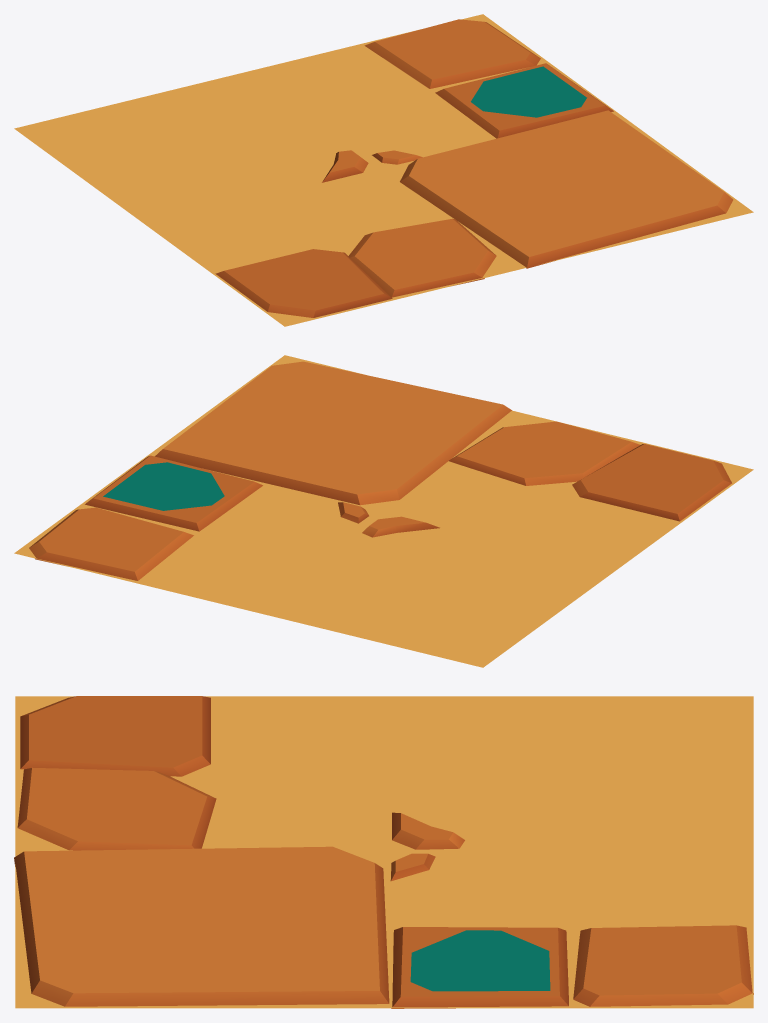
3 views of the same model, one above another, from view 1: azimuth 30°, elevation 25°; view 2: azimuth 150°, elevation 25°; view 3: azimuth 270°, elevation 25° (orthographic). The views are drawn at different scales.
Visible parts, largest first — view 1: center_h; view 2: center_h; view 3: center_h.
Part boxes in pixels (box(x1,y1,x2,y2)): center_h: box(14, 14, 753, 326); center_h: box(14, 355, 753, 667); center_h: box(14, 696, 753, 1008).
Size of the model in its own units: 2 by 0.0324 by 2.
1 material, 1 textured.
